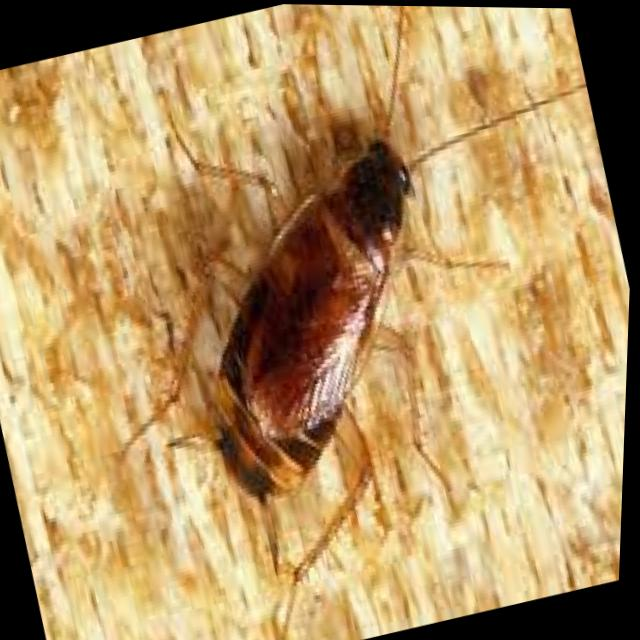Cockroach: (5, 0, 640, 640)
